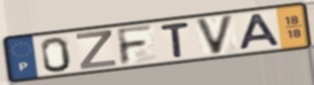0: (38, 35, 74, 73)
A: (238, 12, 283, 52)
F: (114, 23, 156, 67)
T: (158, 21, 192, 59)
V: (193, 13, 236, 57)
Z: (75, 29, 119, 71)
